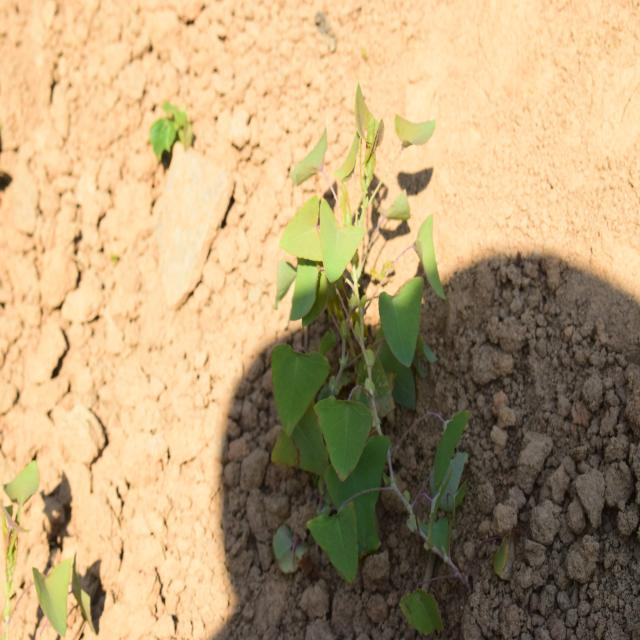Asiatic_Smartweed: (270, 142, 437, 494)
